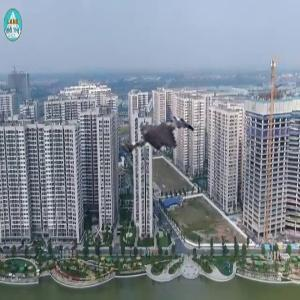drone: (94, 72, 205, 183)
